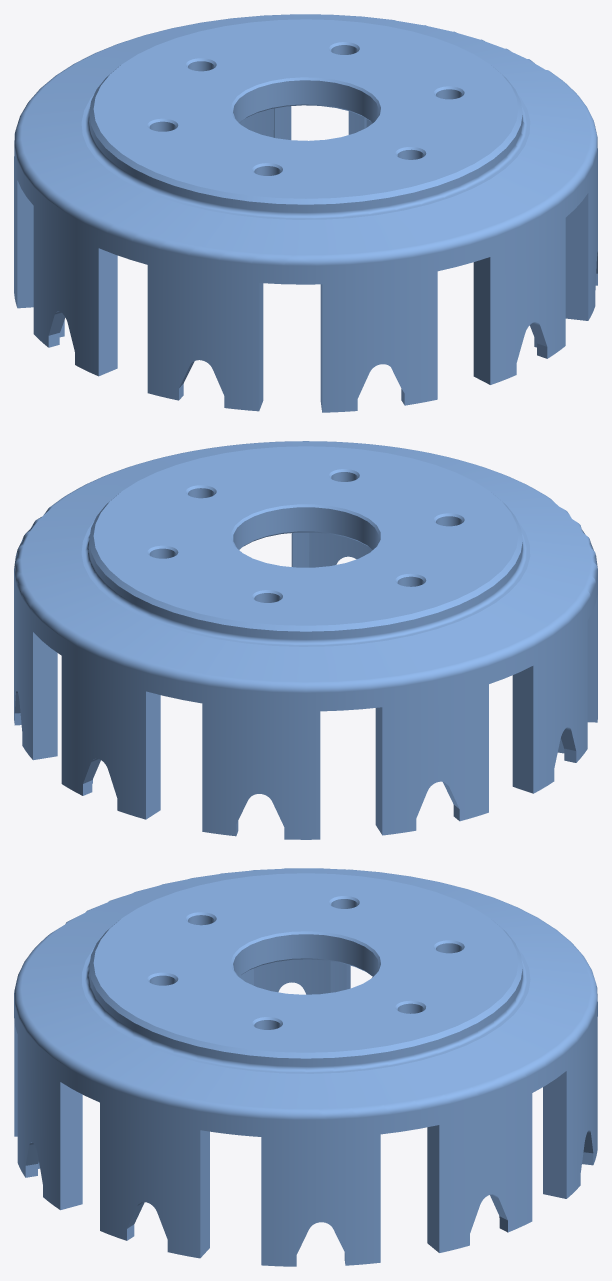
File: Clutch_Basket.fbx
3 renders of one model, top to bottom at view 1: azimuth 30°, elevation 25°; view 2: azimuth 150°, elevation 25°; view 3: azimuth 270°, elevation 25°, orthographic.
Visible parts, largest first — view 1: Clutch Basket; view 2: Clutch Basket; view 3: Clutch Basket.
Boxes of the visible parts, left/top/right/bottom form: Clutch Basket: left=14, top=14, right=597, bottom=412; Clutch Basket: left=14, top=441, right=597, bottom=839; Clutch Basket: left=14, top=868, right=597, bottom=1266.
Size of the model in its own units: 13.2 by 4.5 by 13.2.
